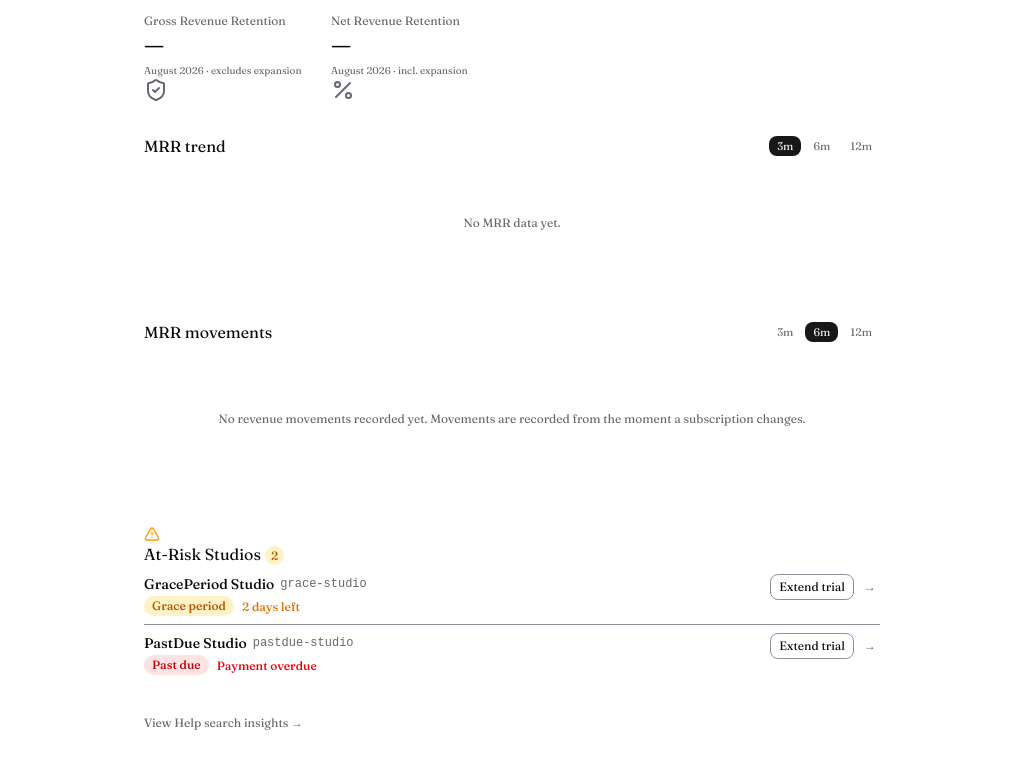
AdminDashboardPage › At-Risk row: clicking 'Extend trial' reveals the days input and Confirm button
(page scrolled)
Click the button "Extend trial" in the row of "grace-studio": [812, 587] box [770,574,854,600]
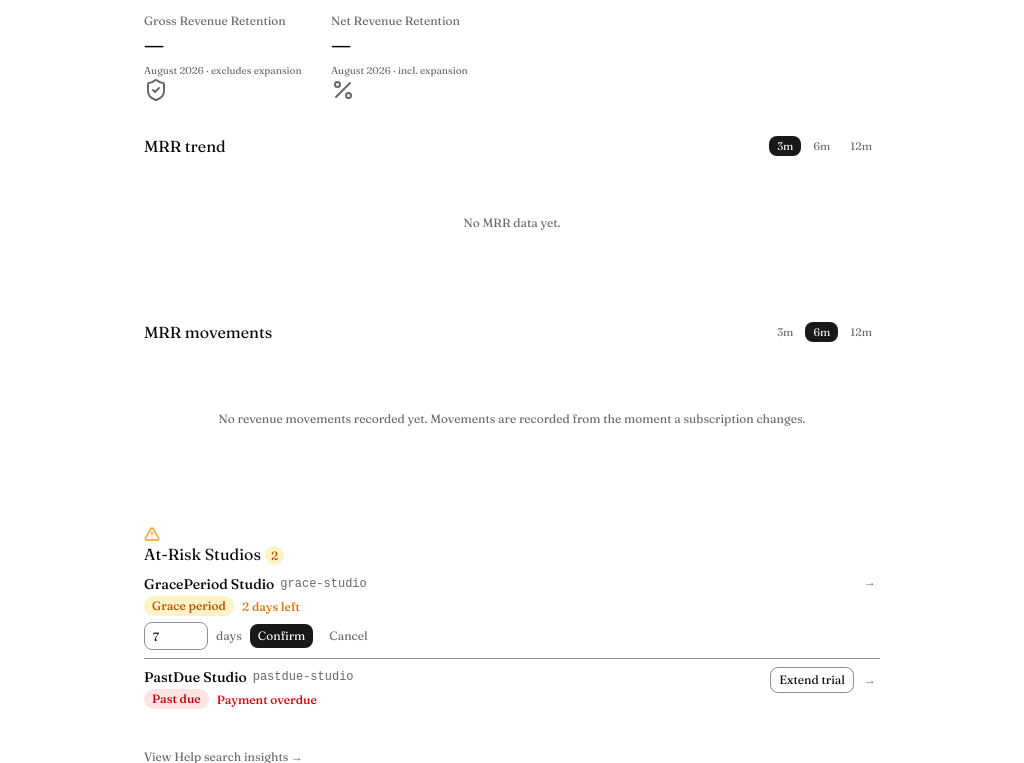
expect the number field is shown: met, box [144,622,208,650]
expect the button "Confirm" is shown: met, box [250,624,313,648]
